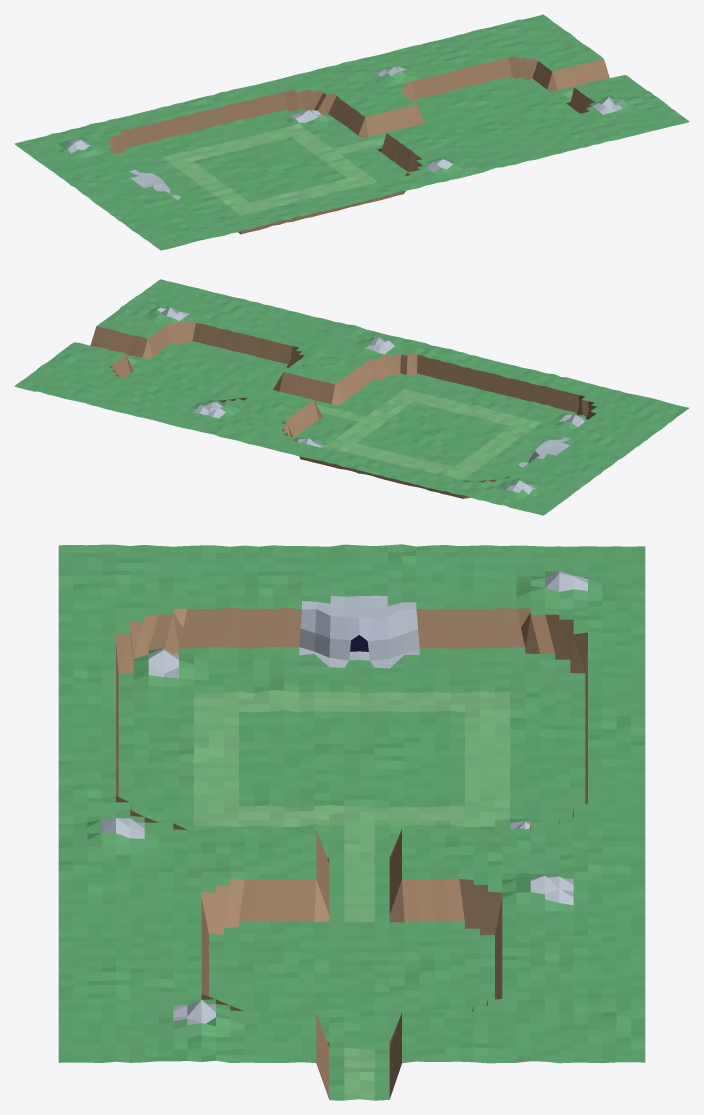
Rendered from stage_goblinvillage.fbx.
The picture shows the model from 3 angles, top to bottom: view 1: azimuth 30°, elevation 25°; view 2: azimuth 150°, elevation 25°; view 3: azimuth 270°, elevation 25°; orthographic projection. The views are drawn at different scales.
Parts seen in each view (by area): view 1: stage; view 2: stage; view 3: stage.
Part boxes in pixels (x1,y1,x2,y2): stage: [14, 14, 689, 250]; stage: [14, 279, 689, 515]; stage: [58, 544, 645, 1100].
Size of the model in its own units: 15917 by 779 by 7600.
